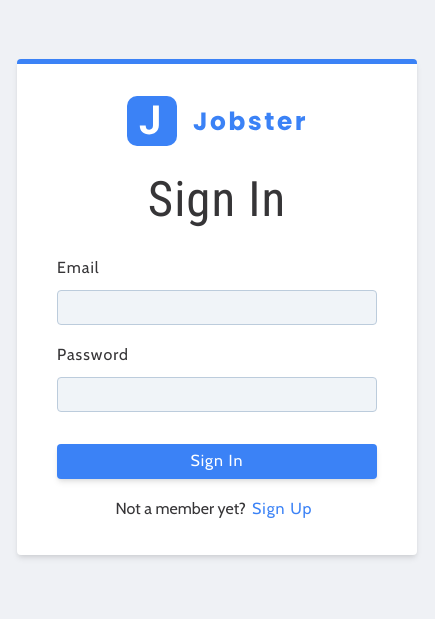
Test case: SignupPage › users can switch between sign-in and sign-up forms
Expected: the heading "Sign In" is shown, x1=148 y1=171 x2=286 y2=228
Click the button "Sign Up". click: (282, 509)
box: x1=246 y1=499 x2=318 y2=519
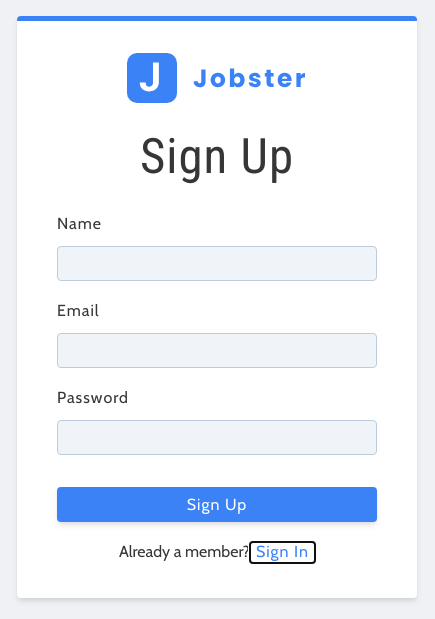
Result: the heading "Sign Up" is shown at x1=140 y1=128 x2=294 y2=185
Click the button "Sign In". click: (282, 552)
box: x1=250 y1=542 x2=315 y2=563
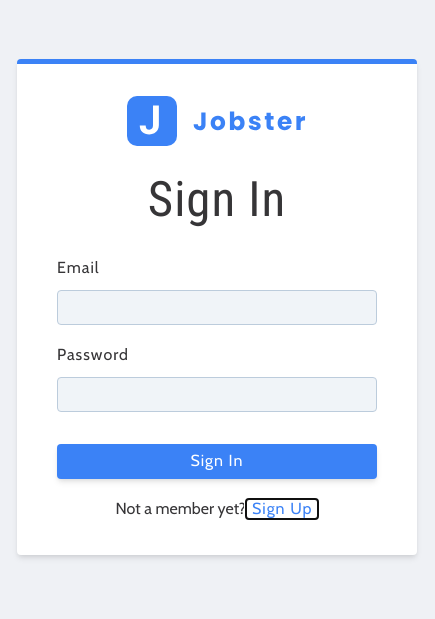
Result: the heading "Sign In" is shown at x1=148 y1=171 x2=286 y2=228
